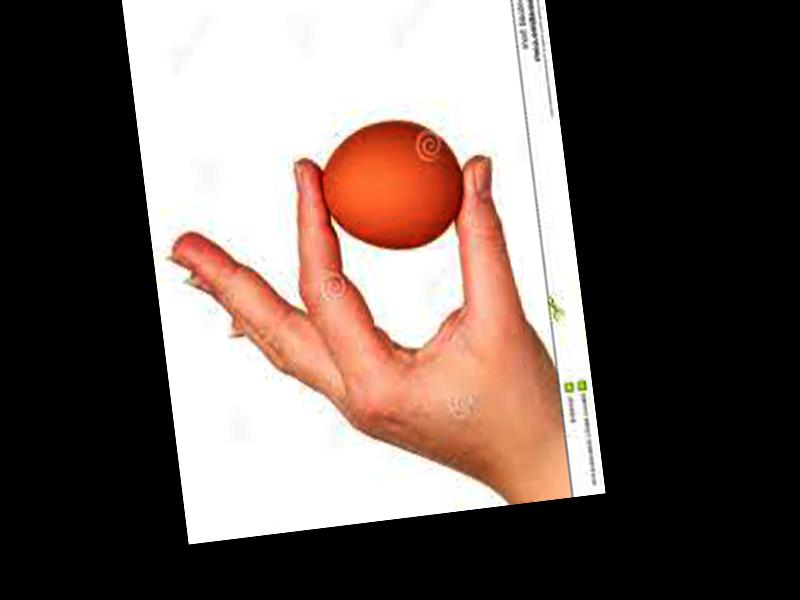Eggs: (314, 111, 471, 260)
